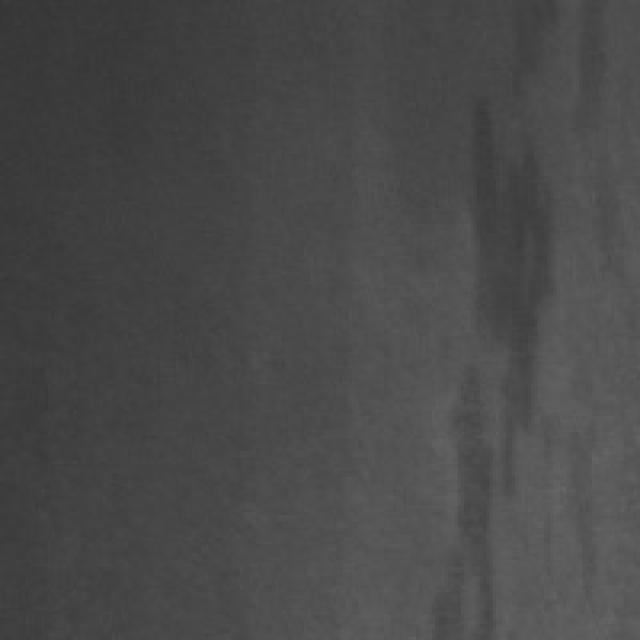inclusion: (422, 6, 566, 628)
